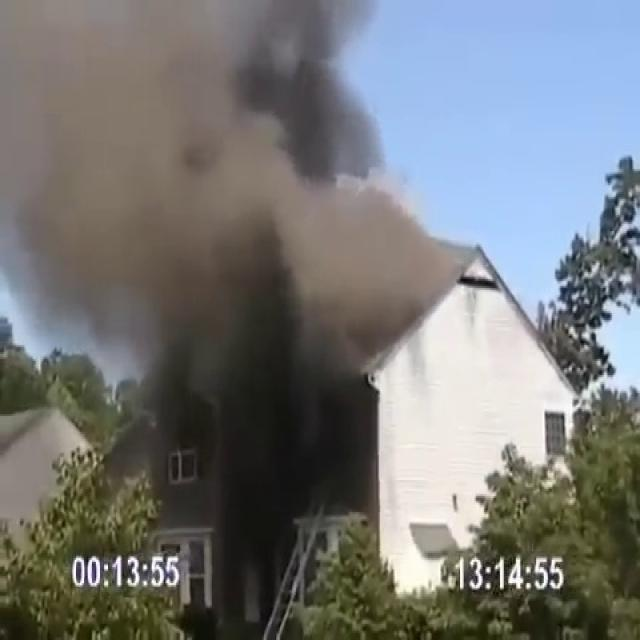Smoke: (0, 0, 464, 443)
